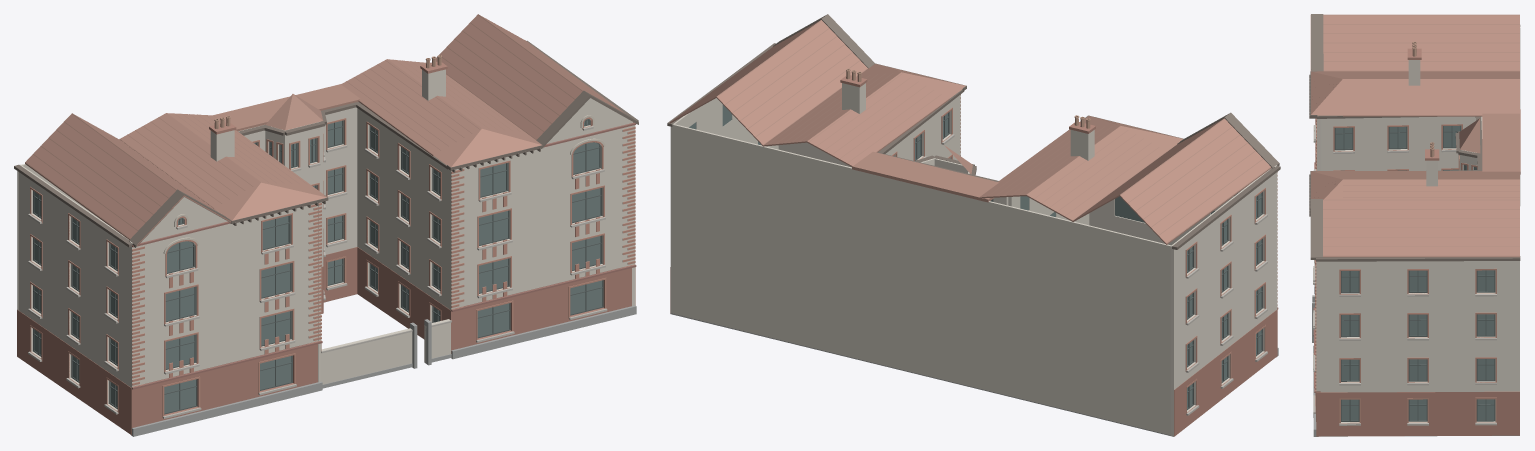
File: xuhui-clements-apartments-west-front-lod.glb
3 views of the same model, side by side, from view 1: azimuth 30°, elevation 25°; view 2: azimuth 150°, elevation 25°; view 3: azimuth 270°, elevation 25° (orthographic). The views are drawn at different scales.
Parts seen in each view (by area): view 1: 克莱门公寓（复兴中路弄口西侧前楼）; view 2: 克莱门公寓（复兴中路弄口西侧前楼）; view 3: 克莱门公寓（复兴中路弄口西侧前楼）.
Boxes of the visible parts, x1=… form: 克莱门公寓（复兴中路弄口西侧前楼）: x1=14, y1=14, x2=638, y2=436; 克莱门公寓（复兴中路弄口西侧前楼）: x1=667, y1=14, x2=1280, y2=436; 克莱门公寓（复兴中路弄口西侧前楼）: x1=1309, y1=14, x2=1520, y2=436.
Bounding box in the file's own units: 38.52 × 17.45 × 14.67.
